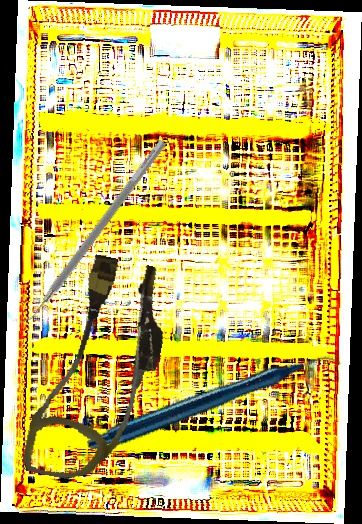Cannula: (20, 248, 178, 493)
Handpiece: (85, 297, 343, 512)
Spatula Surgical: (15, 133, 168, 332)
